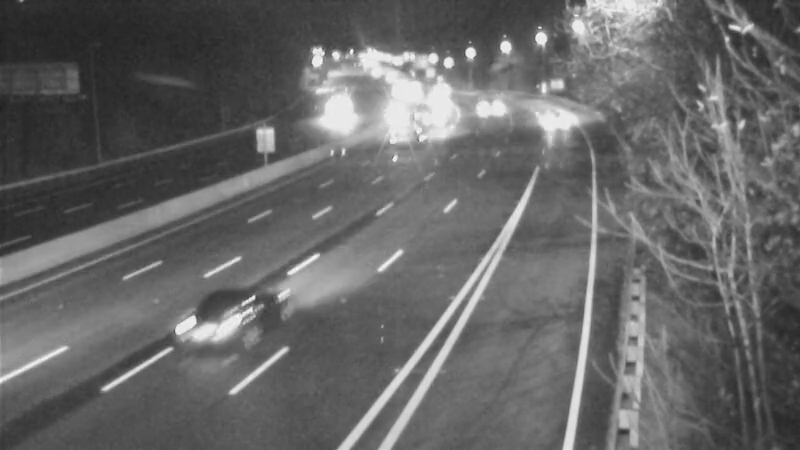vehicle: (153, 275, 263, 385), (387, 72, 437, 122), (407, 72, 457, 122), (419, 85, 469, 135), (461, 83, 511, 133), (406, 94, 456, 144), (533, 96, 583, 146), (379, 101, 429, 151), (309, 86, 359, 136)
